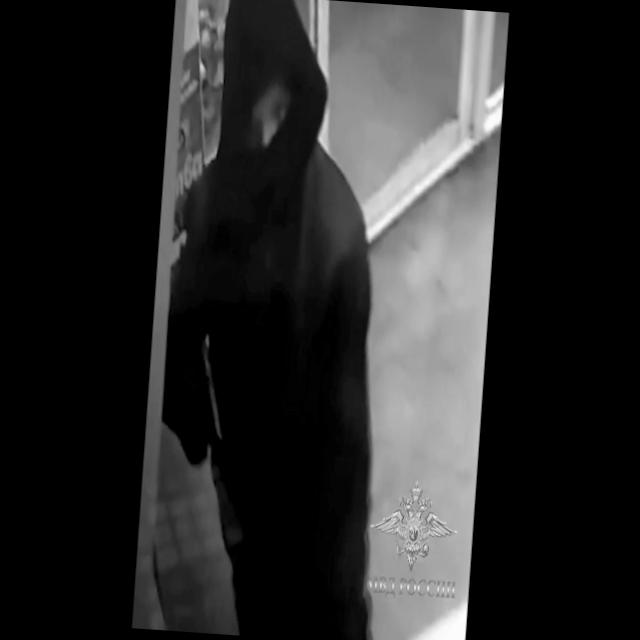gun: (178, 324, 235, 479)
person with a gun: (135, 0, 405, 640)
